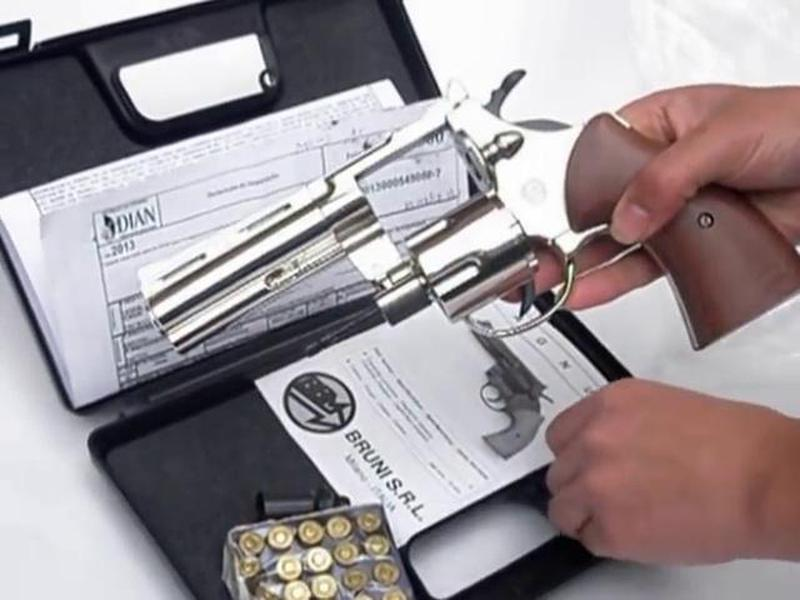Revolver: (150, 74, 777, 401)
